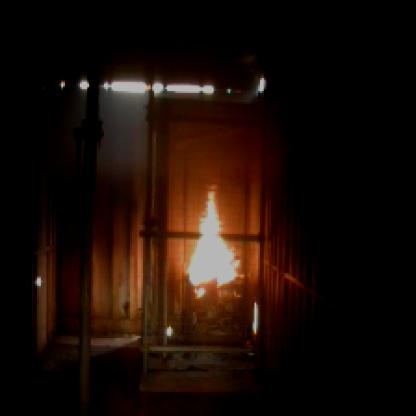Fire: (176, 188, 238, 290)
